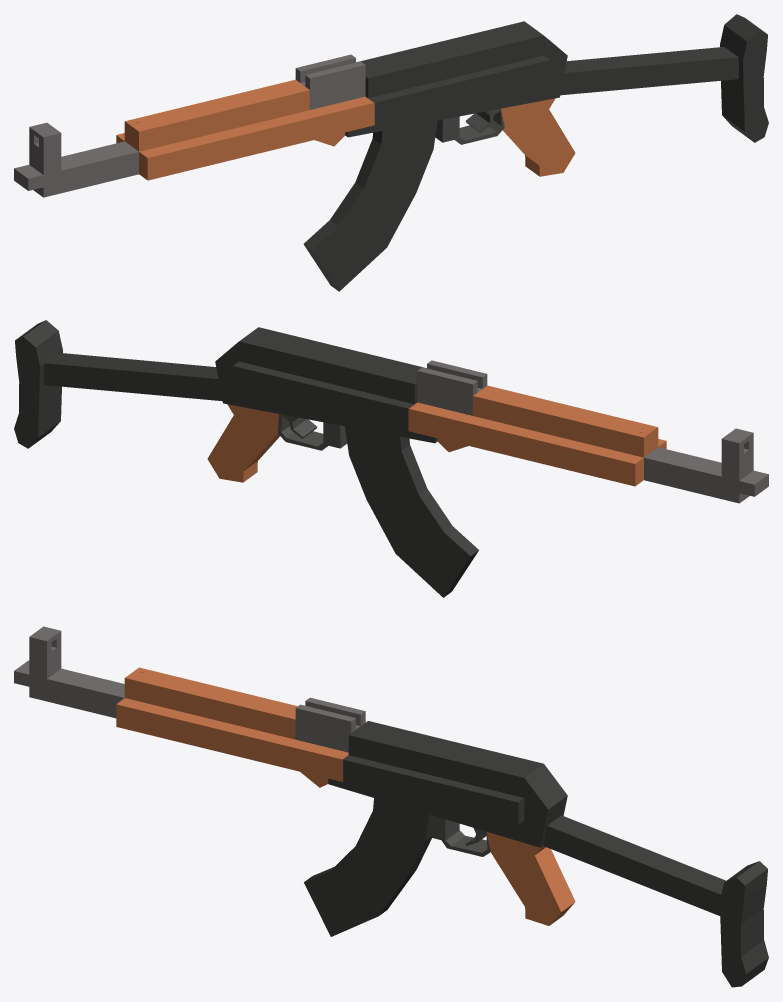
3 renders of one model, top to bottom at view 1: azimuth 30°, elevation 25°; view 2: azimuth 150°, elevation 25°; view 3: azimuth 330°, elevation 25°, orthographic.
Visible parts, largest first — view 1: Gun, Mag; view 2: Gun, Mag; view 3: Gun, Mag.
Part boxes in pixels (<box>): Gun: <box>14,14,768,197</box>; Mag: <box>303,120,437,291</box>; Gun: <box>14,320,768,503</box>; Mag: <box>345,426,478,597</box>; Gun: <box>14,626,768,987</box>; Mag: <box>304,798,431,936</box>.
Size of the model in its own units: 4.92 by 1.47 by 0.3656.
2 materials, 2 textured.
